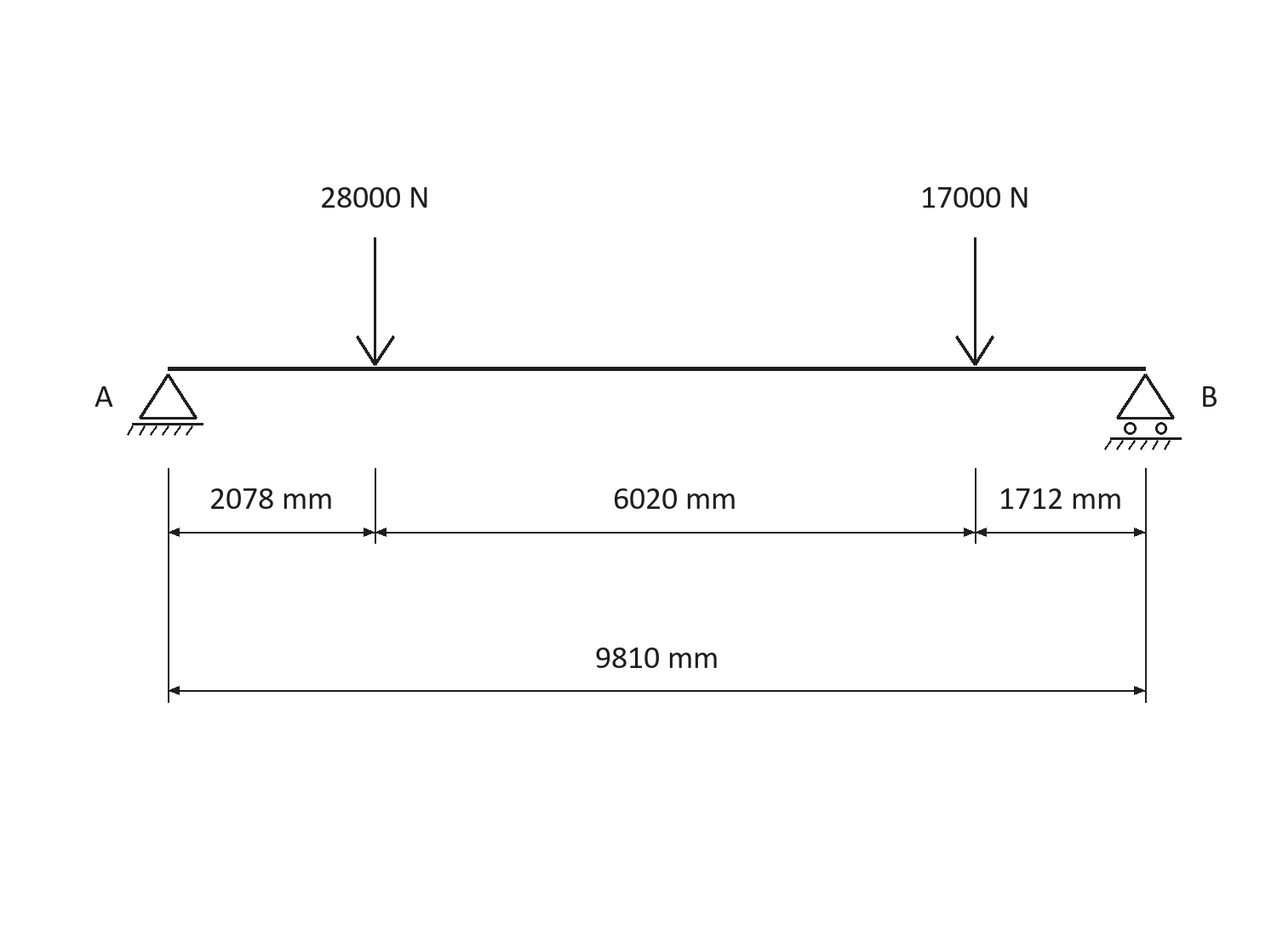pin_support: (127, 374, 203, 436)
point_load: (356, 237, 395, 366), (955, 237, 994, 366)
roller_support: (1104, 374, 1182, 450)
